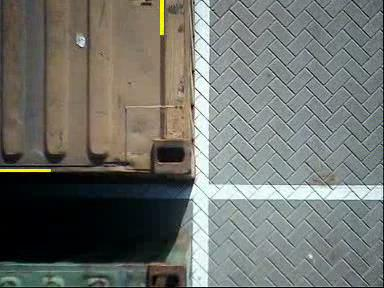groundmarker_2: (201, 110, 238, 156)
